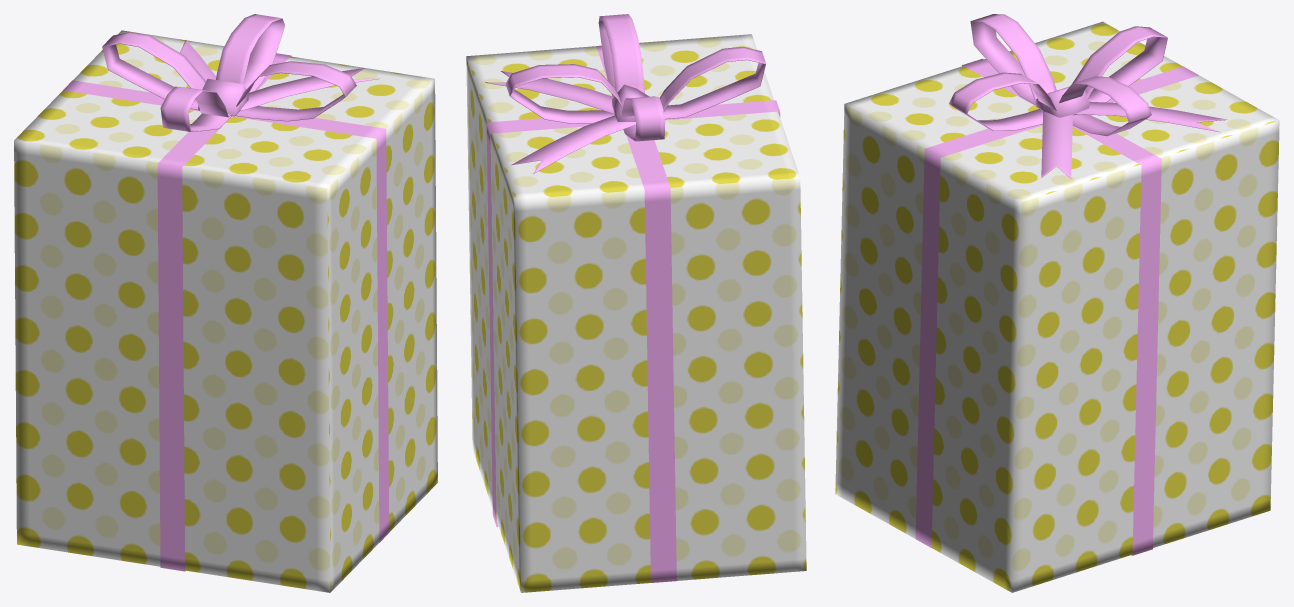
File: Paket_3.glb
3 views of the same model, side by side, from view 1: azimuth 30°, elevation 25°; view 2: azimuth 150°, elevation 25°; view 3: azimuth 270°, elevation 25° (orthographic). The views are drawn at different scales.
Parts seen in each view (by area): view 1: Paket.003; view 2: Paket.003; view 3: Paket.003.
Boxes of the visible parts, bbox=[...] form: Paket.003: bbox=[14, 14, 437, 592]; Paket.003: bbox=[466, 14, 806, 592]; Paket.003: bbox=[835, 14, 1279, 592].
Size of the model in its own units: 0.55 by 0.6383 by 0.5683.
2 materials, 1 textured.
